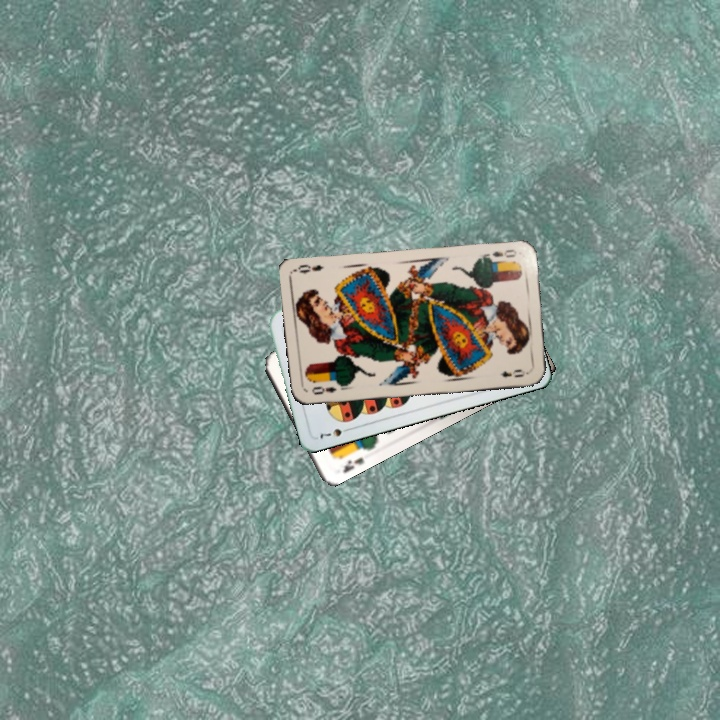EK: (339, 453, 367, 476)
EO: (481, 245, 519, 265), (308, 382, 339, 397)
S7: (316, 424, 354, 442)
